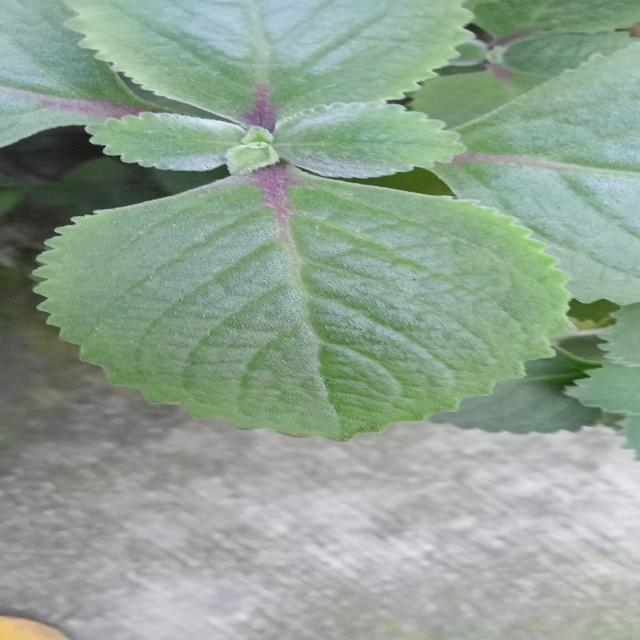Oregano: (19, 170, 602, 448)
